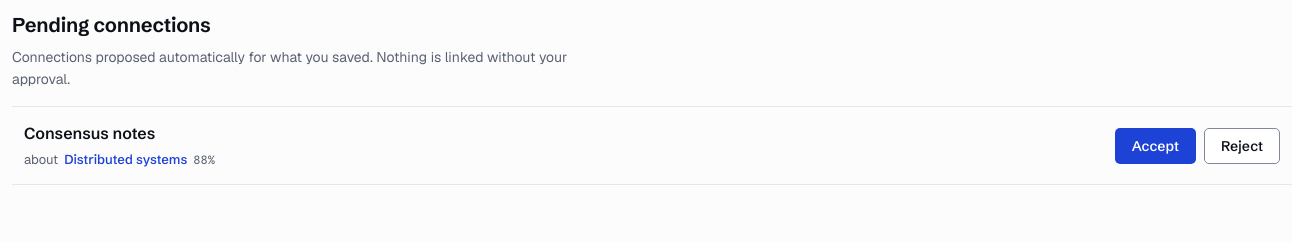
the "Pending connections" tab › leaves the row where it is and says so when the decision fails
Click the button "Accept" at (1155, 146), box [1115,128,1196,164]
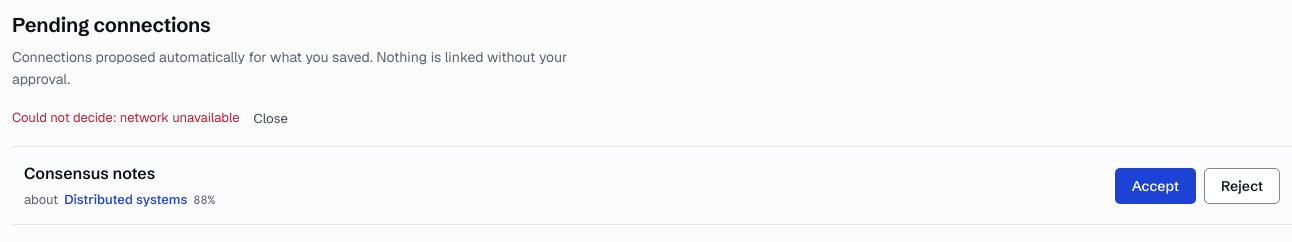
Expected: the message "Could not decide: network unavailable Close" is shown, [12,106,294,130]
